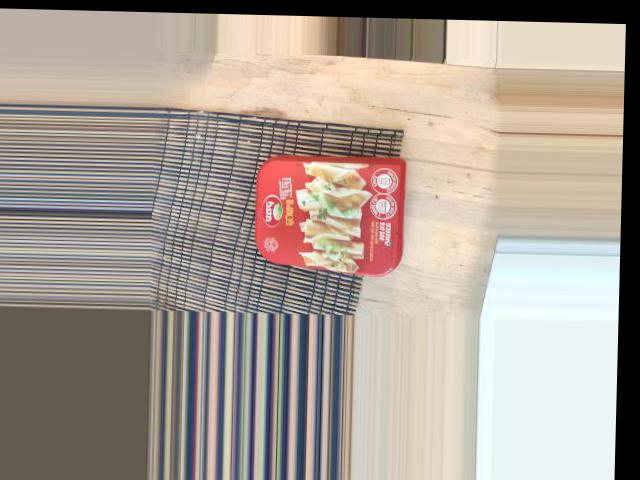cheese: (263, 156, 430, 268)
